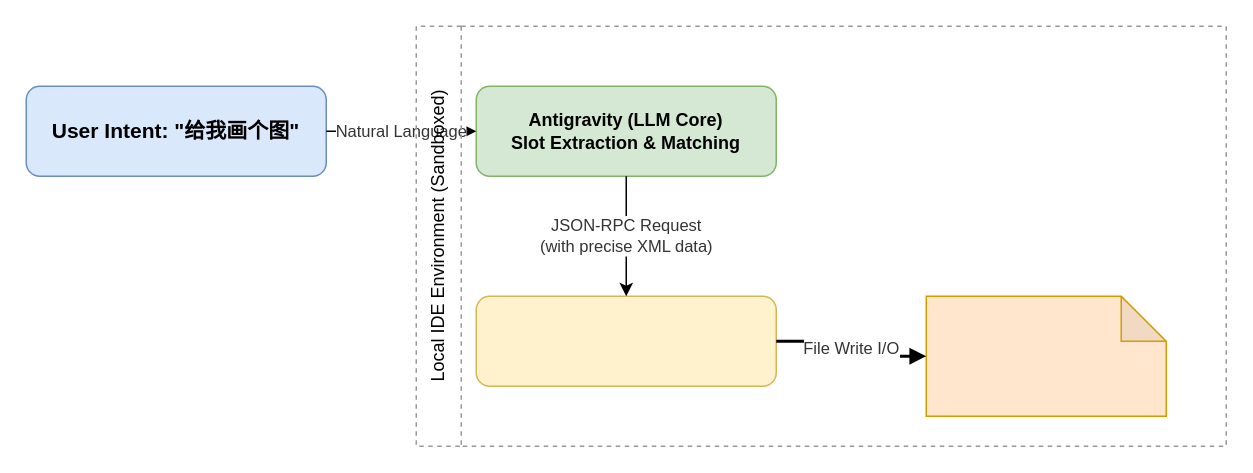
Some shapes in this 1253 by 473 pixel diagram are drawn without their labels. Here are the shapes that lost their labels. From the top down, the centre of each, then its label:
At point 625,340: "MCP Server (drawio) Local Sub-process via npx".
At point 1045,355: "output.drawio (Native XML on Disk)".
